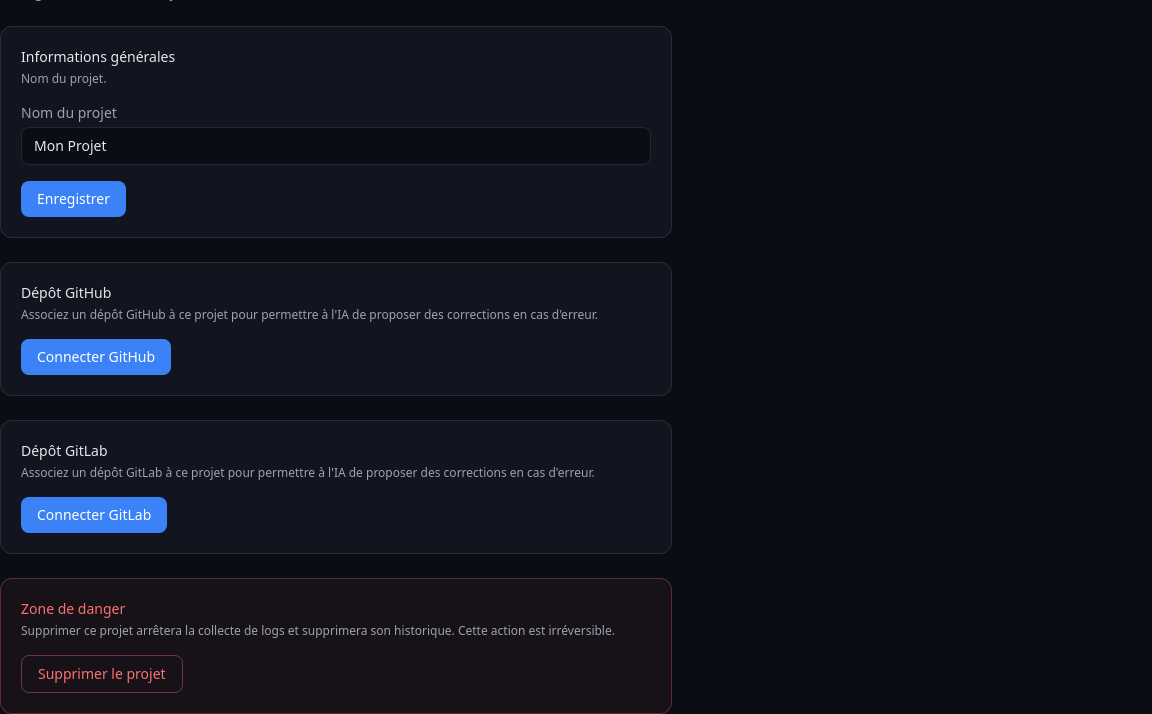
it: ProjectSettingsContent › affiche l'erreur du serveur si la suppression échoue
The width and height of the screenshot is (1152, 714).
(page scrolled)
Click the button "Supprimer le projet": (102, 674) [21,655,183,693]
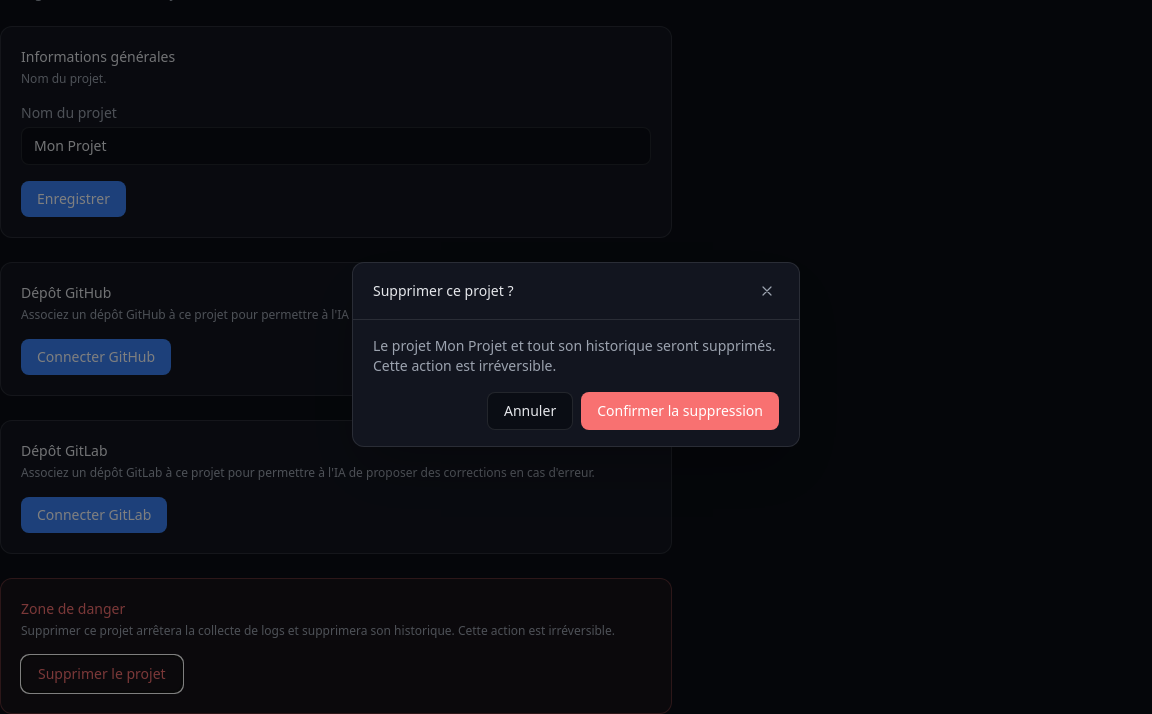
Click the button "Confirmer la suppression": (680, 410) [581,392,779,430]
(page scrolled)
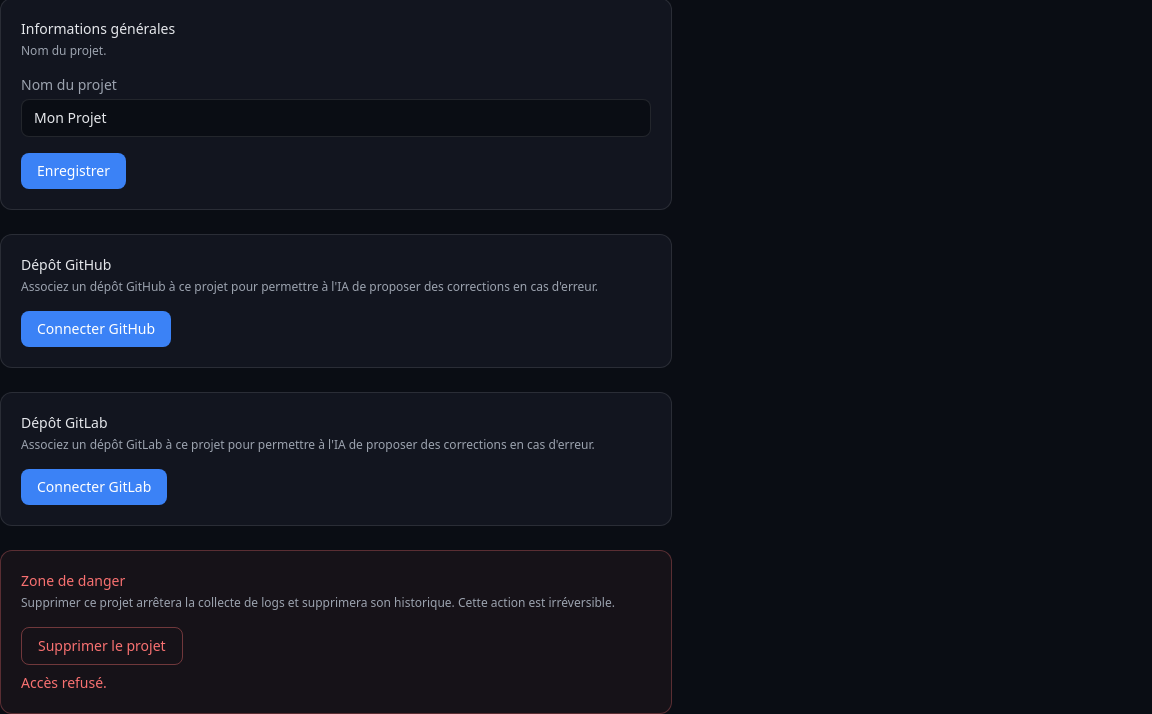
Result: the text "Accès refusé." is shown at [21,673,107,692]
